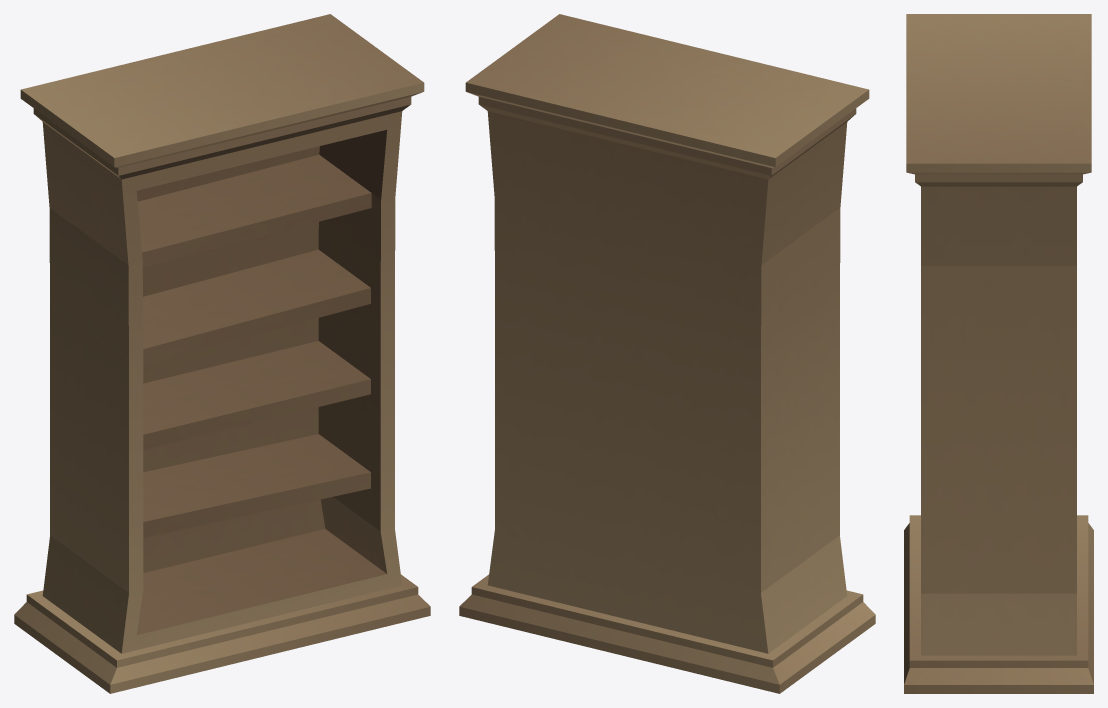
The model's file is bookshelf_1.dae.
3 renders of one model, left to right at view 1: azimuth 30°, elevation 25°; view 2: azimuth 150°, elevation 25°; view 3: azimuth 270°, elevation 25°, orthographic.
Visible parts, largest first — view 1: bookshelf_1a; view 2: bookshelf_1a; view 3: bookshelf_1a.
Boxes of the visible parts, <box> form: bookshelf_1a: <box>14,14,430,693</box>; bookshelf_1a: <box>459,14,875,693</box>; bookshelf_1a: <box>904,14,1093,693</box>.
Size of the model in its own units: 1.1 by 0.5691 by 1.75.
